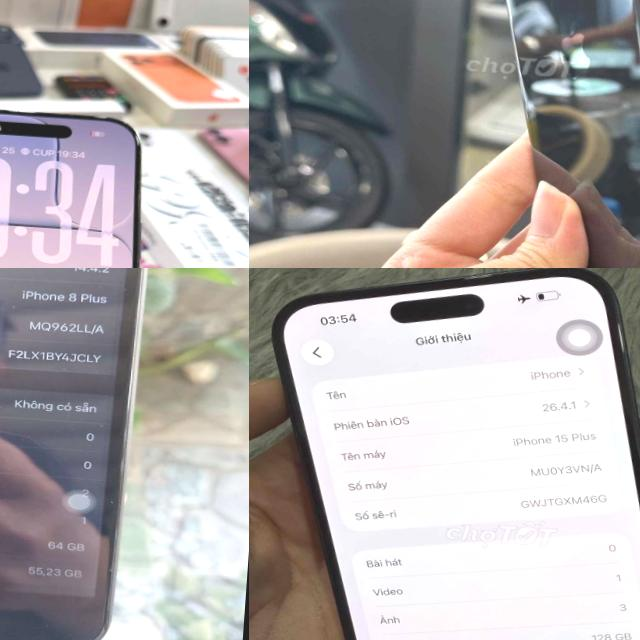gen_11: (445, 0, 640, 268)
gen_15: (249, 268, 640, 640)
gen_17: (0, 90, 166, 268)
gen_7_8: (0, 268, 167, 640)
